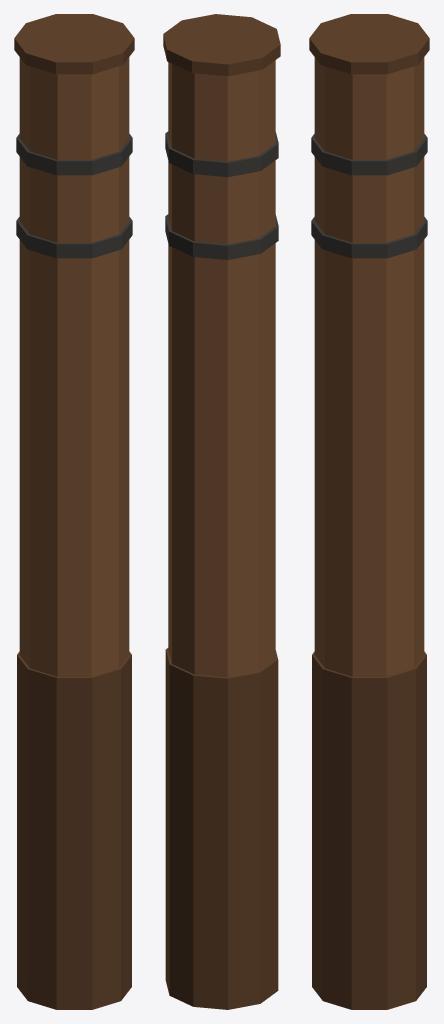
The model's file is timber-pile.glb.
3 renders of one model, left to right at view 1: azimuth 90°, elevation 25°; view 2: azimuth 150°, elevation 25°; view 3: azimuth 270°, elevation 25°, orthographic.
Visible parts, largest first — view 1: timber-pile; view 2: timber-pile; view 3: timber-pile.
Boxes of the visible parts, x1,y1,x2,y2 form: timber-pile: (14,14,134,1009); timber-pile: (163,14,280,1009); timber-pile: (309,14,429,1009).
Bounding box in the file's own units: 0.875 × 8 × 0.92.
